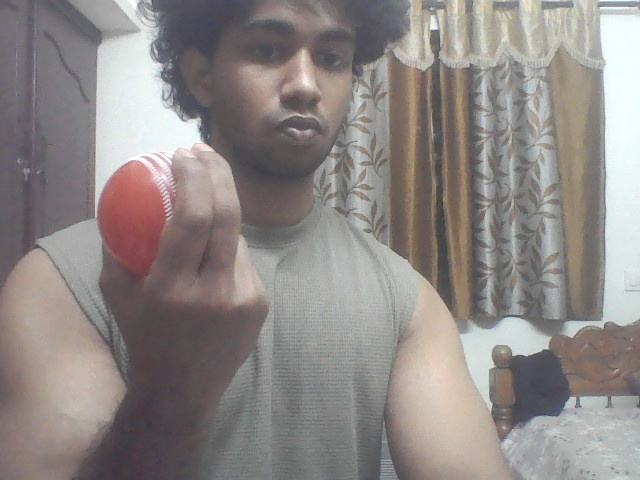cricket_ball: (95, 149, 183, 281)
